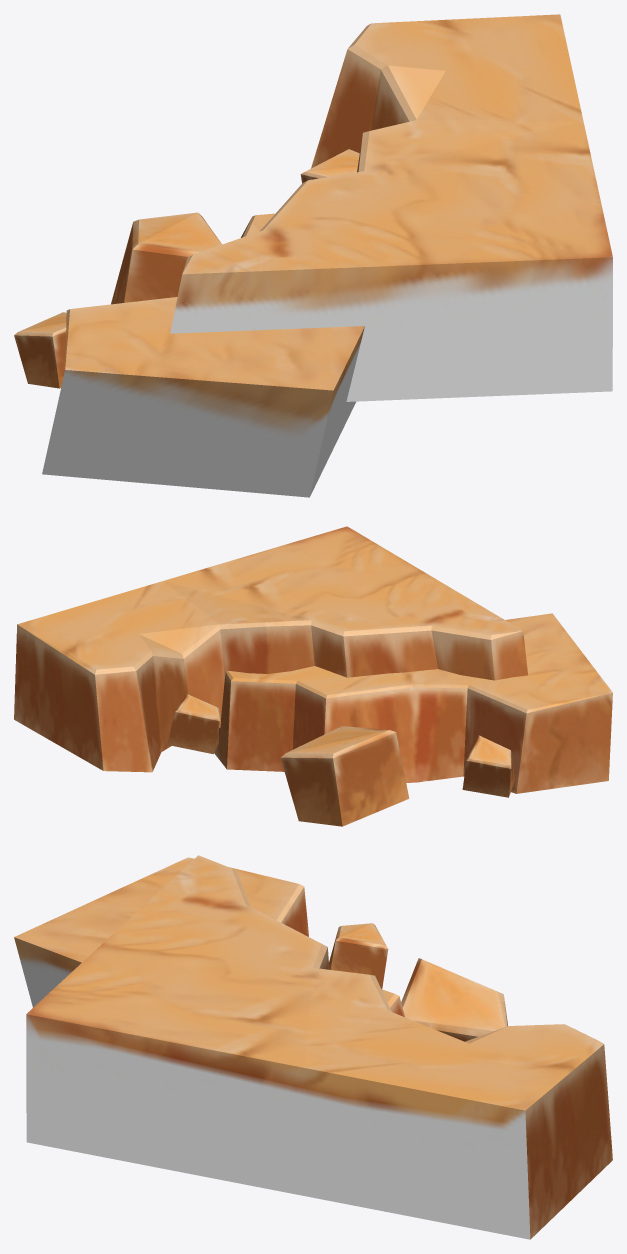
File: land1.fbx
3 renders of one model, top to bottom at view 1: azimuth 30°, elevation 25°; view 2: azimuth 150°, elevation 25°; view 3: azimuth 270°, elevation 25°, orthographic. The views are drawn at different scales.
Visible parts, largest first — view 1: land1; view 2: land1; view 3: land1.
Boxes of the visible parts, x1,y1,x2,y2 form: land1: [14, 14, 612, 497]; land1: [14, 526, 612, 826]; land1: [14, 855, 612, 1239].
Size of the model in its own units: 267 by 76.32 by 213.
